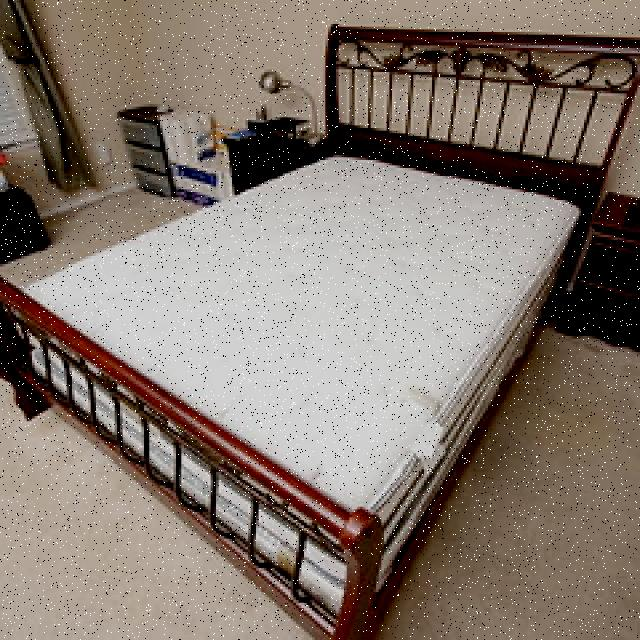bed: (18, 150, 605, 508)
